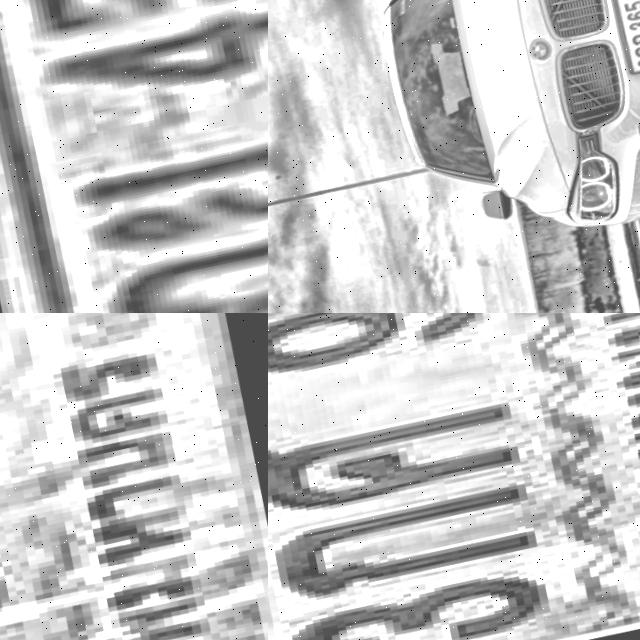license-plate: (268, 313, 640, 640), (0, 313, 268, 640), (0, 0, 268, 313), (606, 0, 640, 77)
